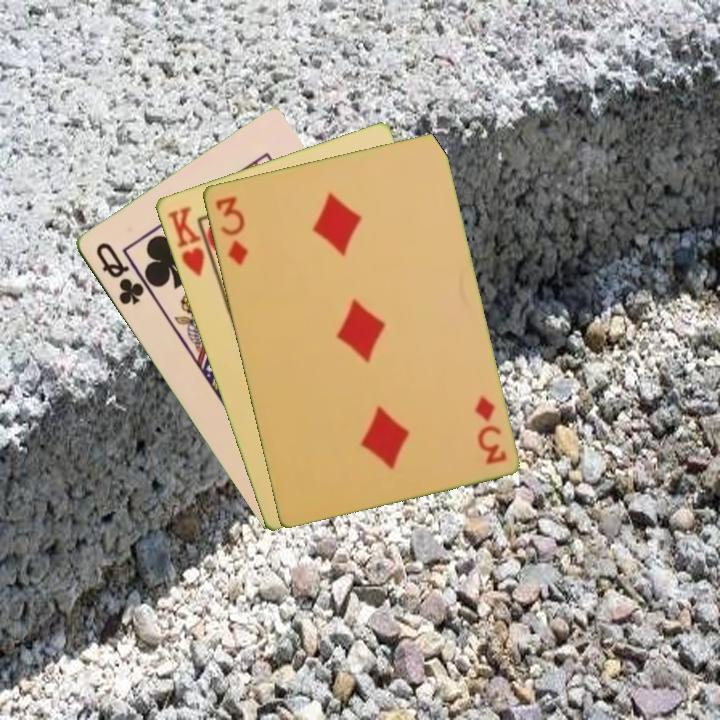3d: (211, 192, 251, 268), (470, 391, 509, 467)
Kh: (163, 202, 218, 279)
Qc: (91, 238, 147, 309)
